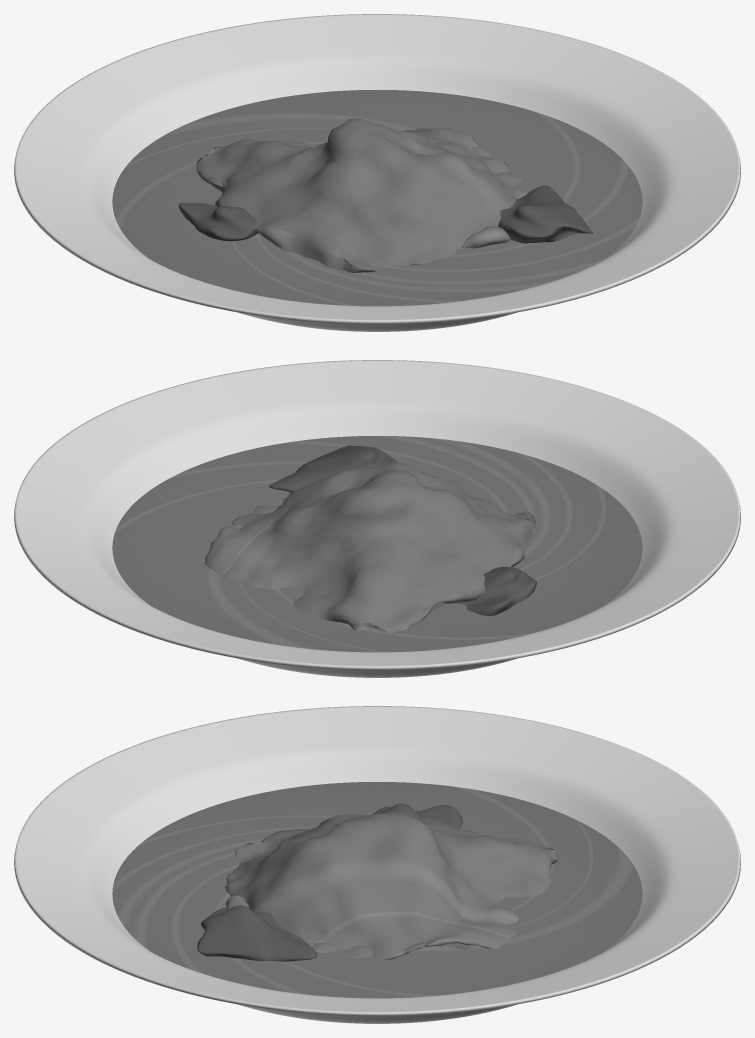
The model's file is piring_mixture.fbx.
The picture shows the model from 3 angles, top to bottom: view 1: azimuth 30°, elevation 25°; view 2: azimuth 150°, elevation 25°; view 3: azimuth 270°, elevation 25°; orthographic projection.
Parts seen in each view (by area): view 1: plate, Circle, Cube.003, Cube, Cube.001; view 2: plate, Circle, Cube.003, Cube, Cube.001; view 3: plate, Circle, Cube.003, Cube, Cube.001.
Part boxes in pixels (x1,y1,x2,y2): plate: [14, 14, 740, 331]; Circle: [112, 90, 642, 306]; Cube.003: [191, 118, 526, 272]; Cube: [498, 185, 592, 243]; Cube.001: [179, 202, 258, 241]; plate: [14, 360, 740, 677]; Circle: [112, 436, 642, 652]; Cube.003: [202, 462, 535, 635]; Cube: [269, 445, 396, 492]; Cube.001: [445, 566, 536, 615]; plate: [14, 706, 740, 1023]; Circle: [112, 782, 642, 998]; Cube.003: [225, 812, 561, 959]; Cube: [197, 905, 317, 961]; Cube.001: [373, 803, 462, 829].
Bounding box in the file's own units: 79.64 × 12.31 × 79.64.
Materials: 3 (1 with a texture image).
